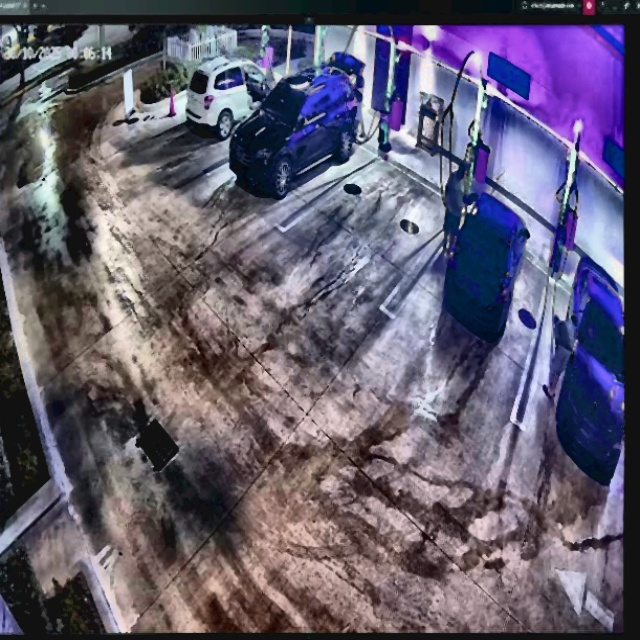Car: (228, 58, 363, 199), (445, 187, 531, 340)
